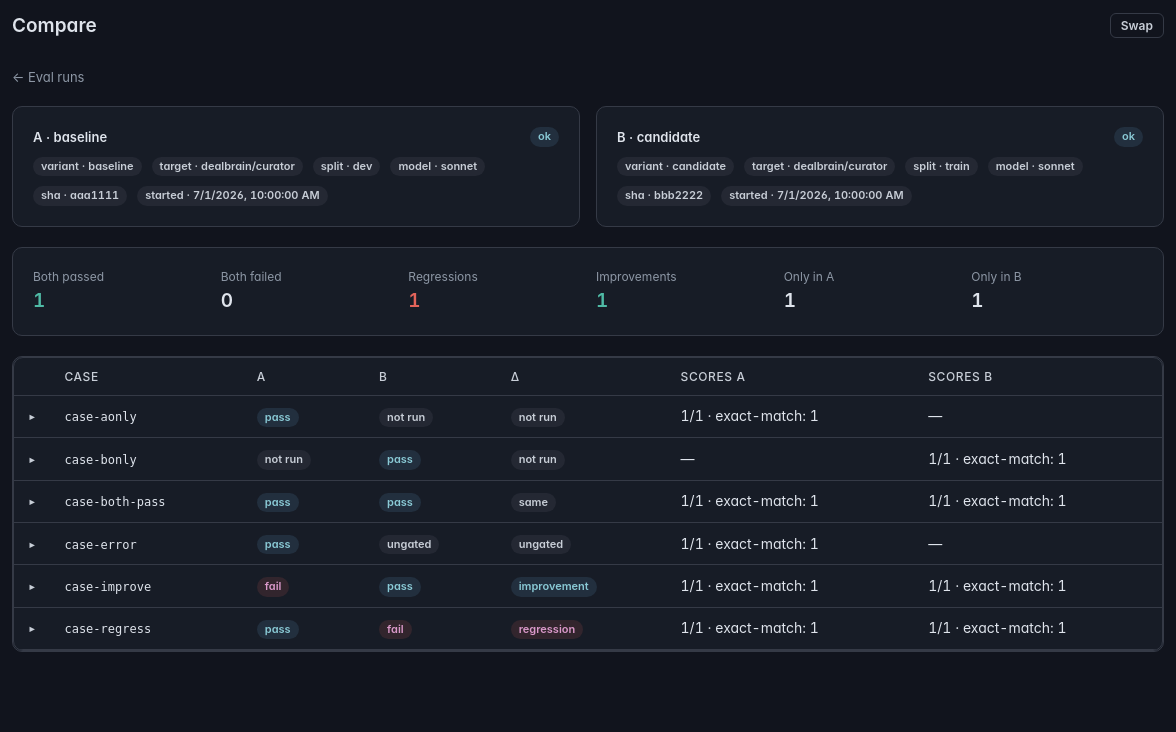
Scenario: EvalComparePage › expanding a row shows A/B actual answers side by side
Click the text "case-regress": point(108, 629) 64,622 -> 151,636
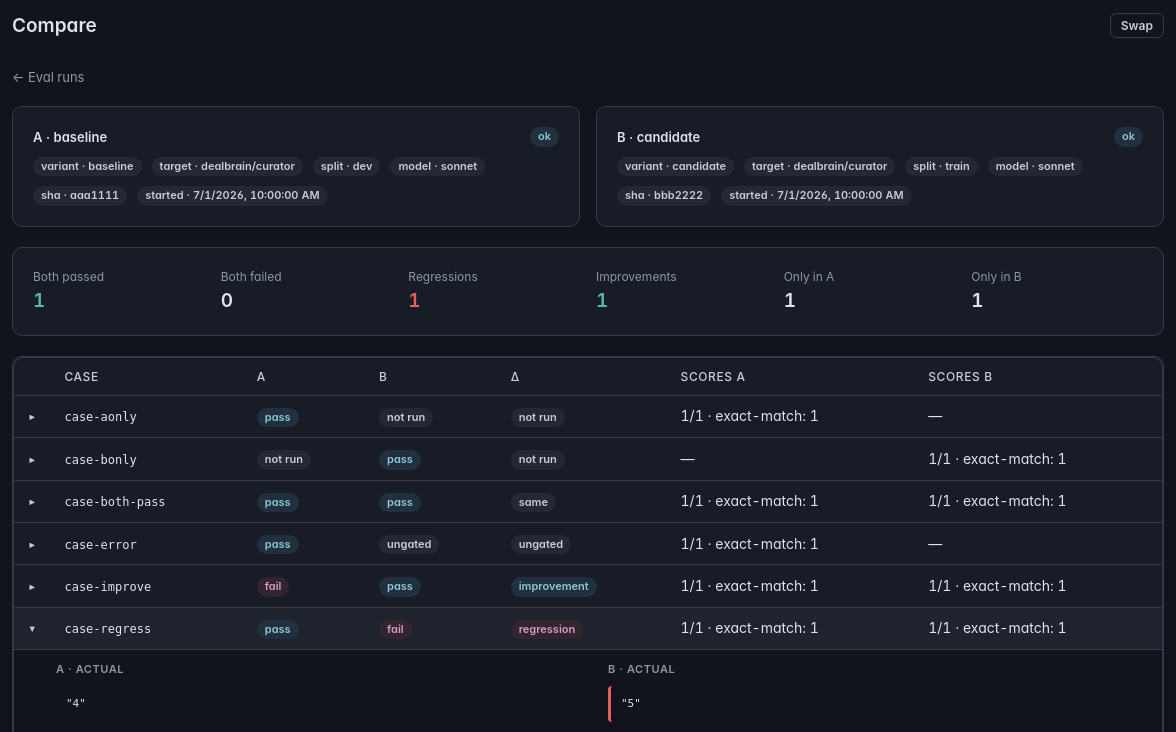
Expected: the text "A · Actual" is shown, 56,662 -> 124,676
Expected: the text "B · Actual" is shown, 608,662 -> 675,676
Expected: the text "\"4\"" is shown, 56,686 -> 596,722
